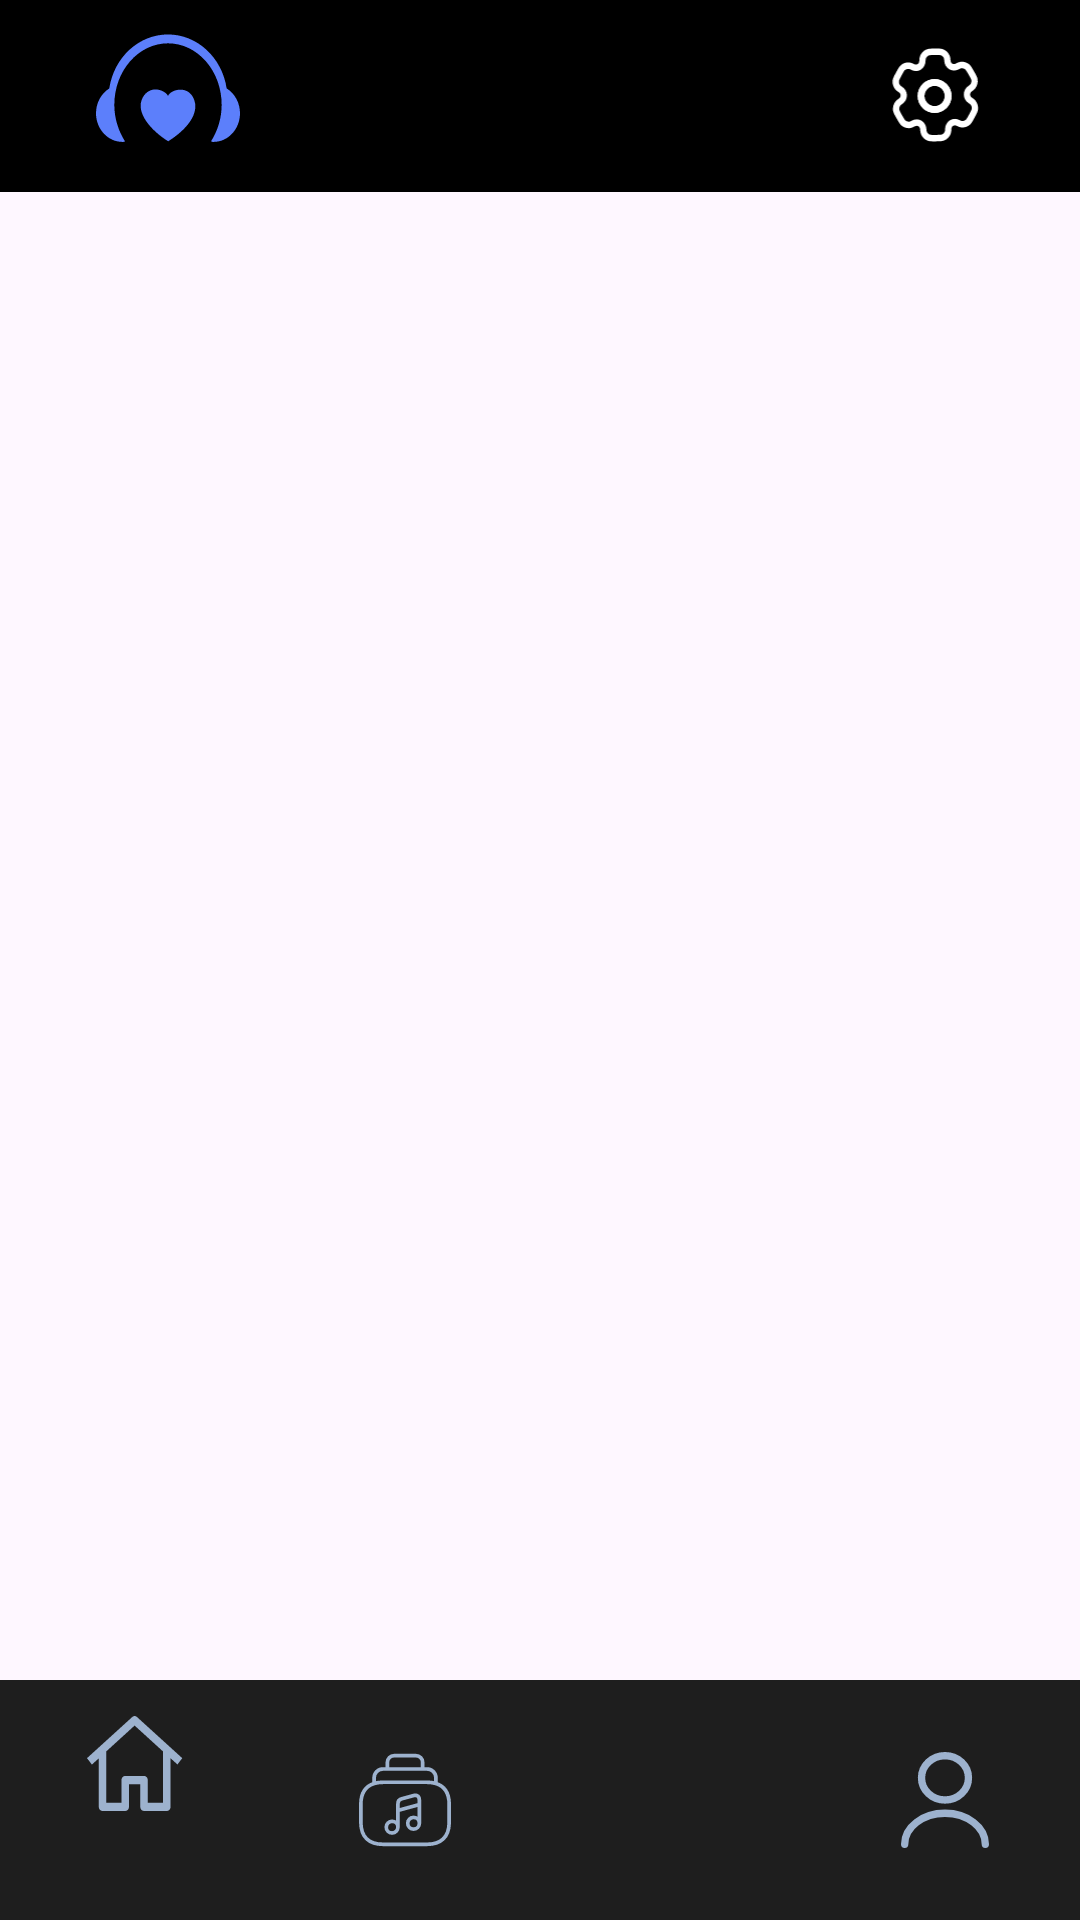

Icons on this 1080 x 1920 Android screen, each with the point to tap as [x,y]:
Settings: [935,95]
